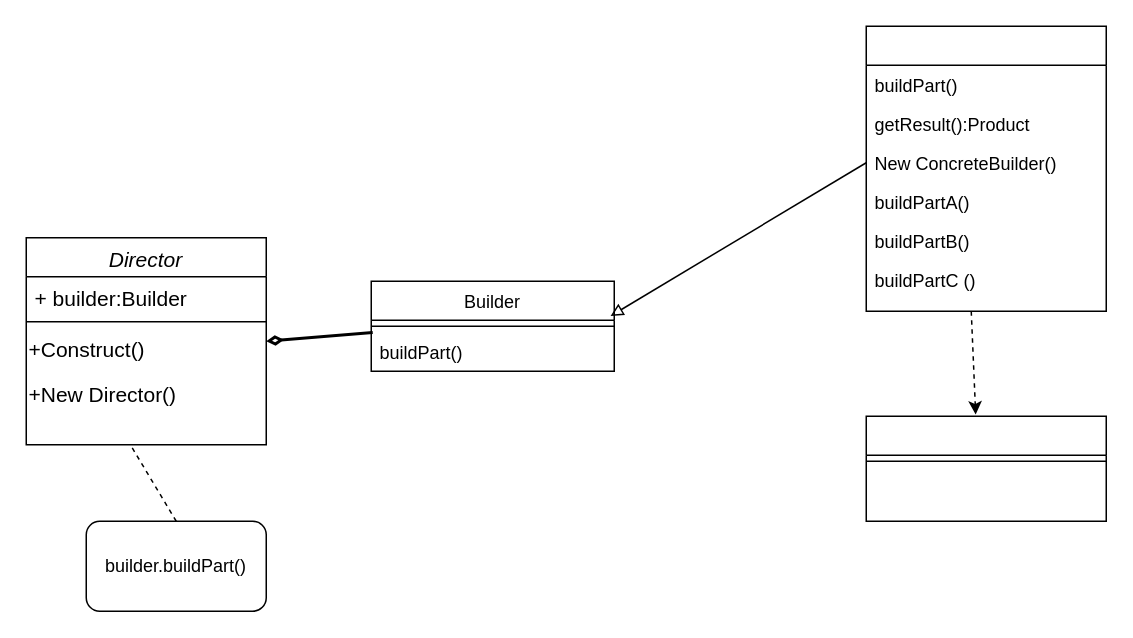
This 1133x638 diagram has some shape labels left out. Here are the shapes that lost their labels. From the top down, the box of each, then its label:
(865, 25, 1106, 311): Conrete Builder
(865, 415, 1106, 521): Product
